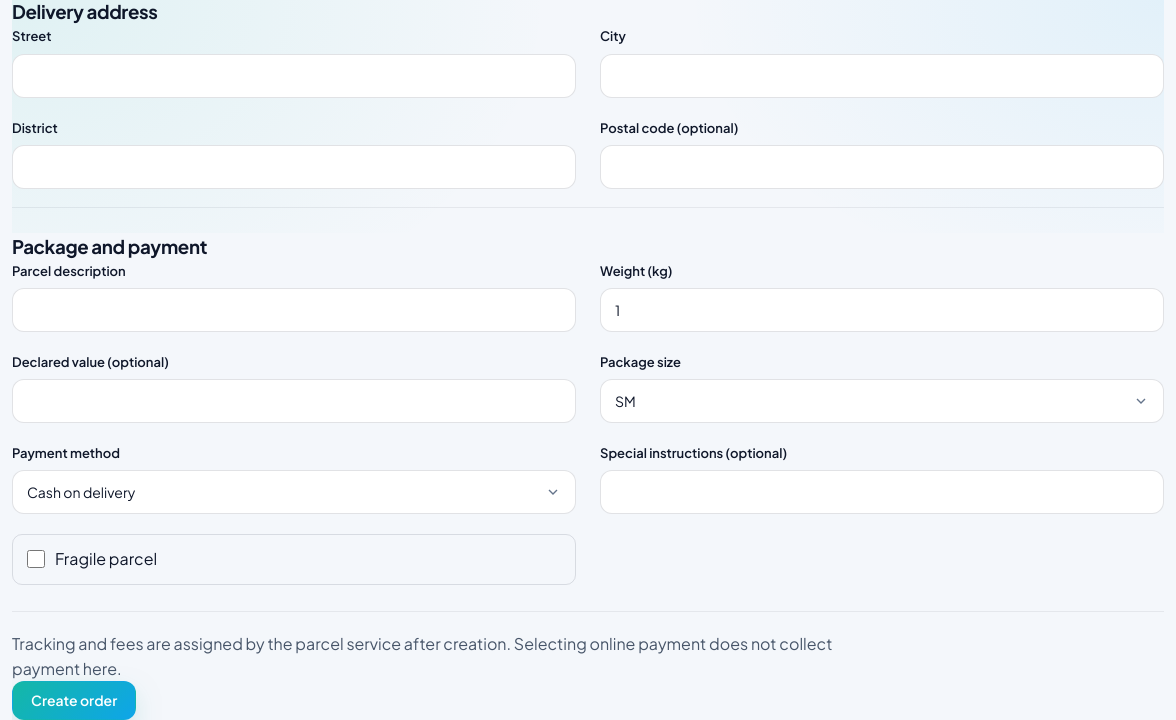
Scenario: validates required fields before submitting
(page scrolled)
Click the button "Create order" at (74, 701), box left=12, top=682, right=136, bottom=719
(page scrolled)
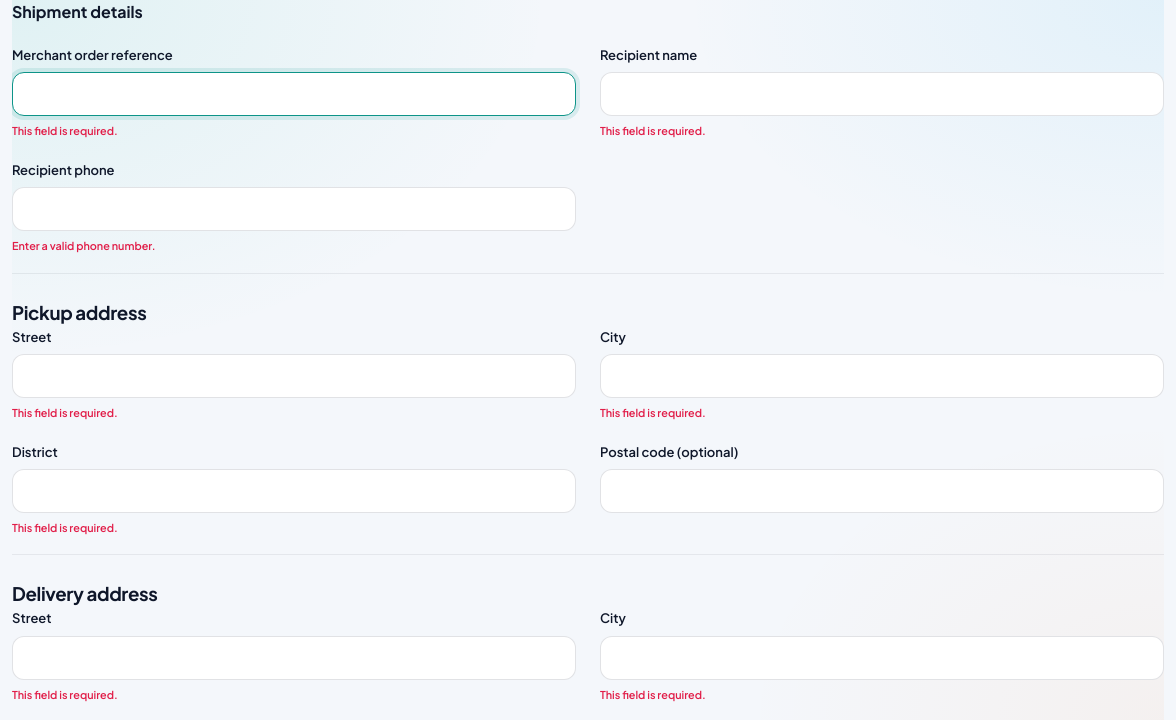
Check: the text "This field is required." below "Merchant order reference" is shown, box left=12, top=124, right=118, bottom=137
